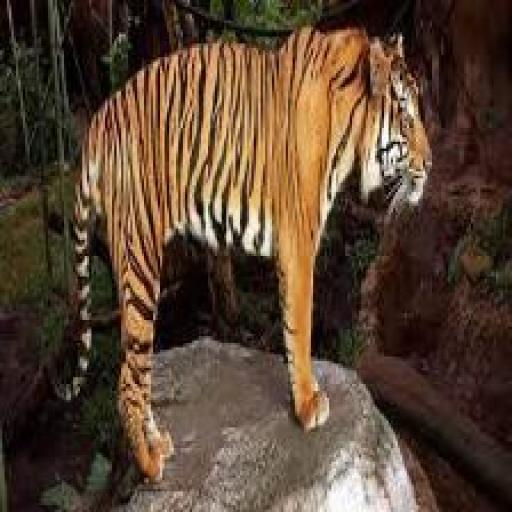Elephant: (71, 17, 433, 485)
